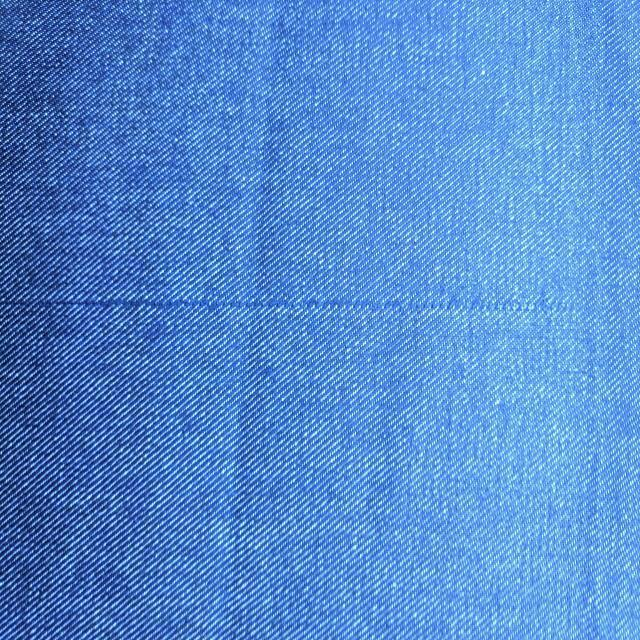Line: (1, 296, 565, 317)
